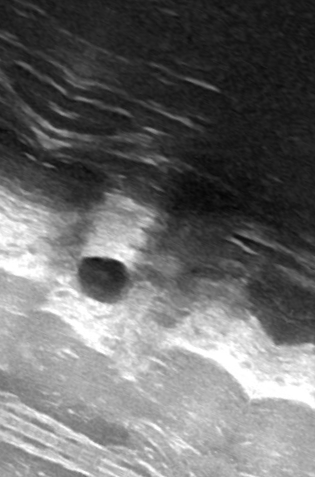Benign: (71, 248, 135, 308)
